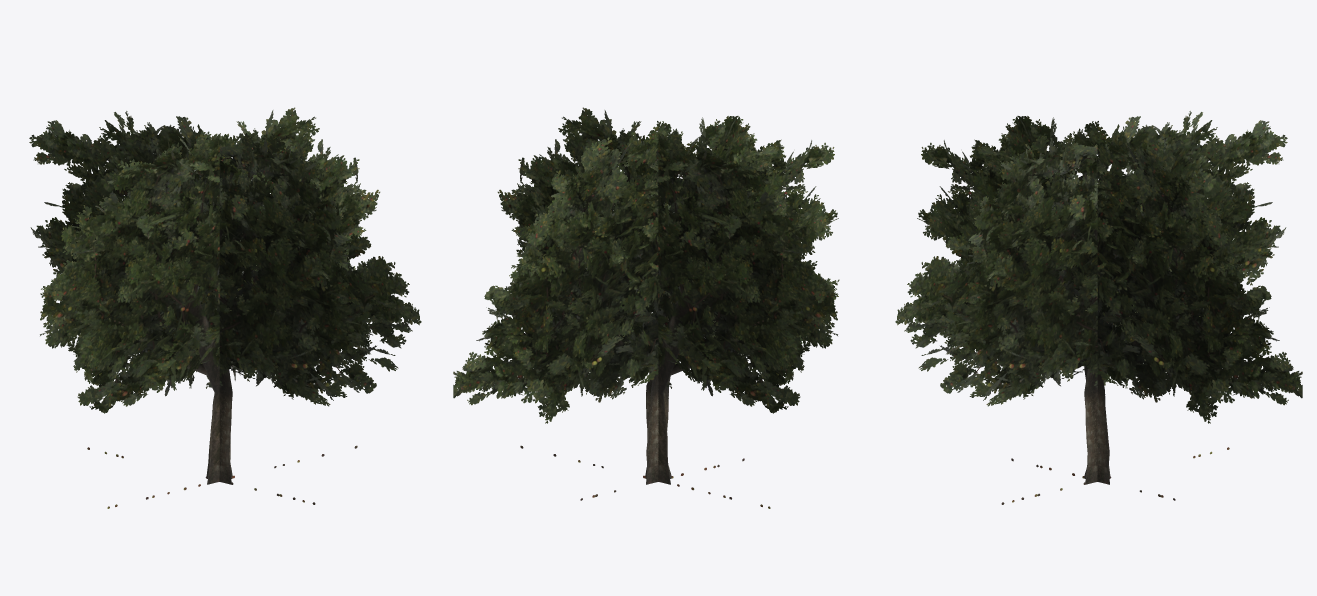
File: jablon_2_daleko.glb
3 views of the same model, side by side, from view 1: azimuth 30°, elevation 25°; view 2: azimuth 150°, elevation 25°; view 3: azimuth 270°, elevation 25° (orthographic).
Parts seen in each view (by area): view 1: jablon_2_daleko; view 2: jablon_2_daleko; view 3: jablon_2_daleko.
Part boxes in pixels (left/top/right/bottom): jablon_2_daleko: left=29, top=107, right=421, bottom=508; jablon_2_daleko: left=453, top=107, right=839, bottom=508; jablon_2_daleko: left=895, top=111, right=1302, bottom=504.
Size of the model in its own units: 8.36 by 7.15 by 7.24.
Materials: 3 (3 with a texture image).
